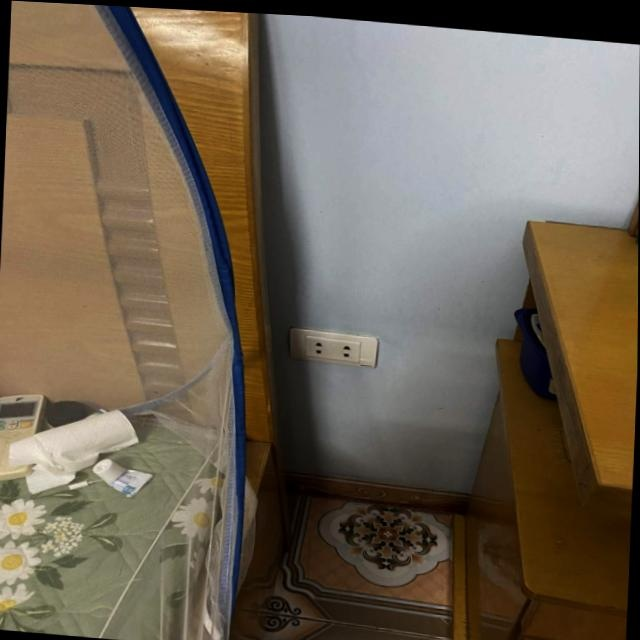outlet: (286, 326, 378, 368)
